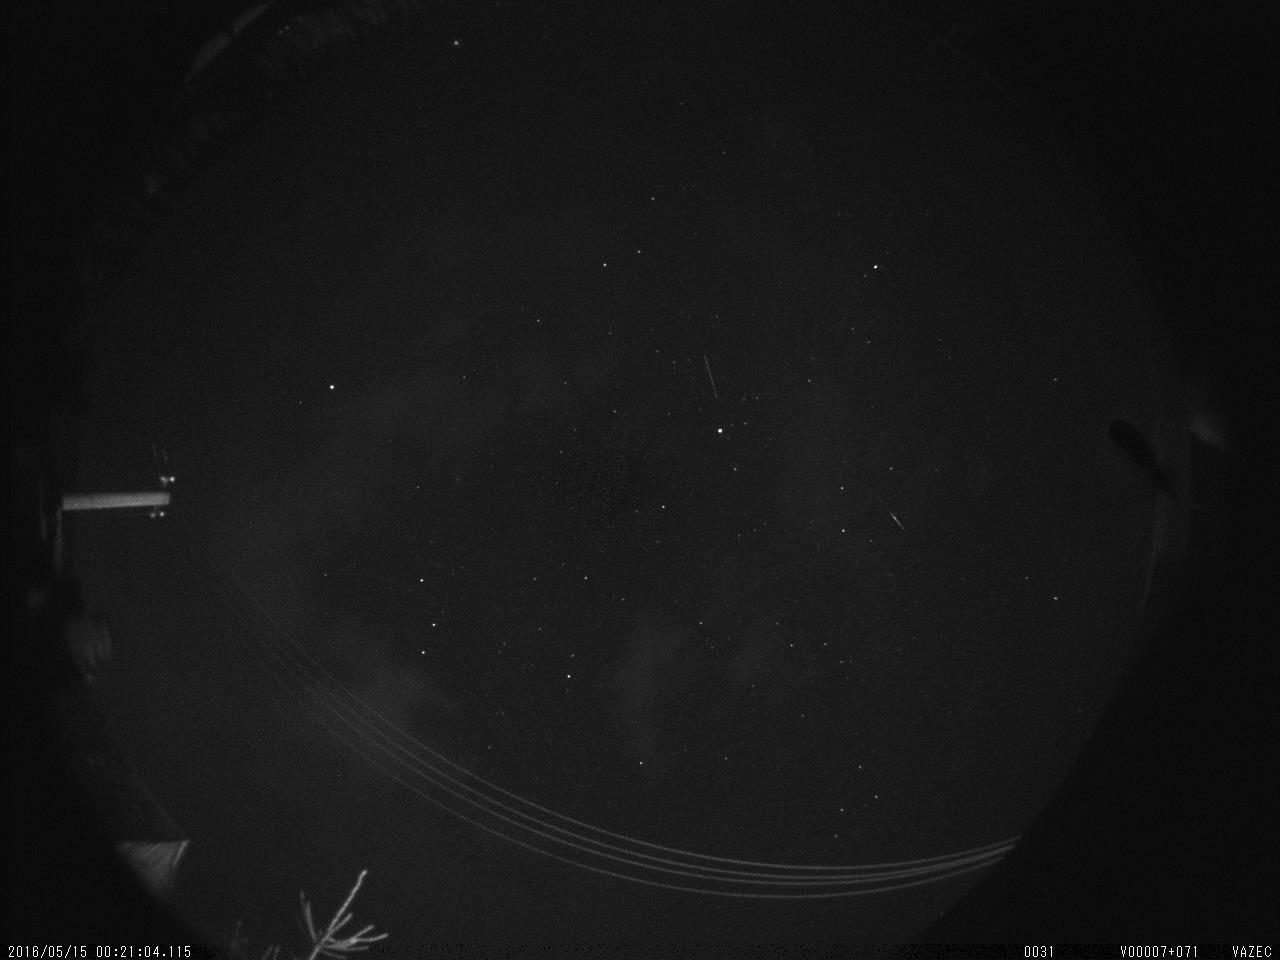Meteor: (700, 348, 725, 406), (881, 506, 911, 538)
